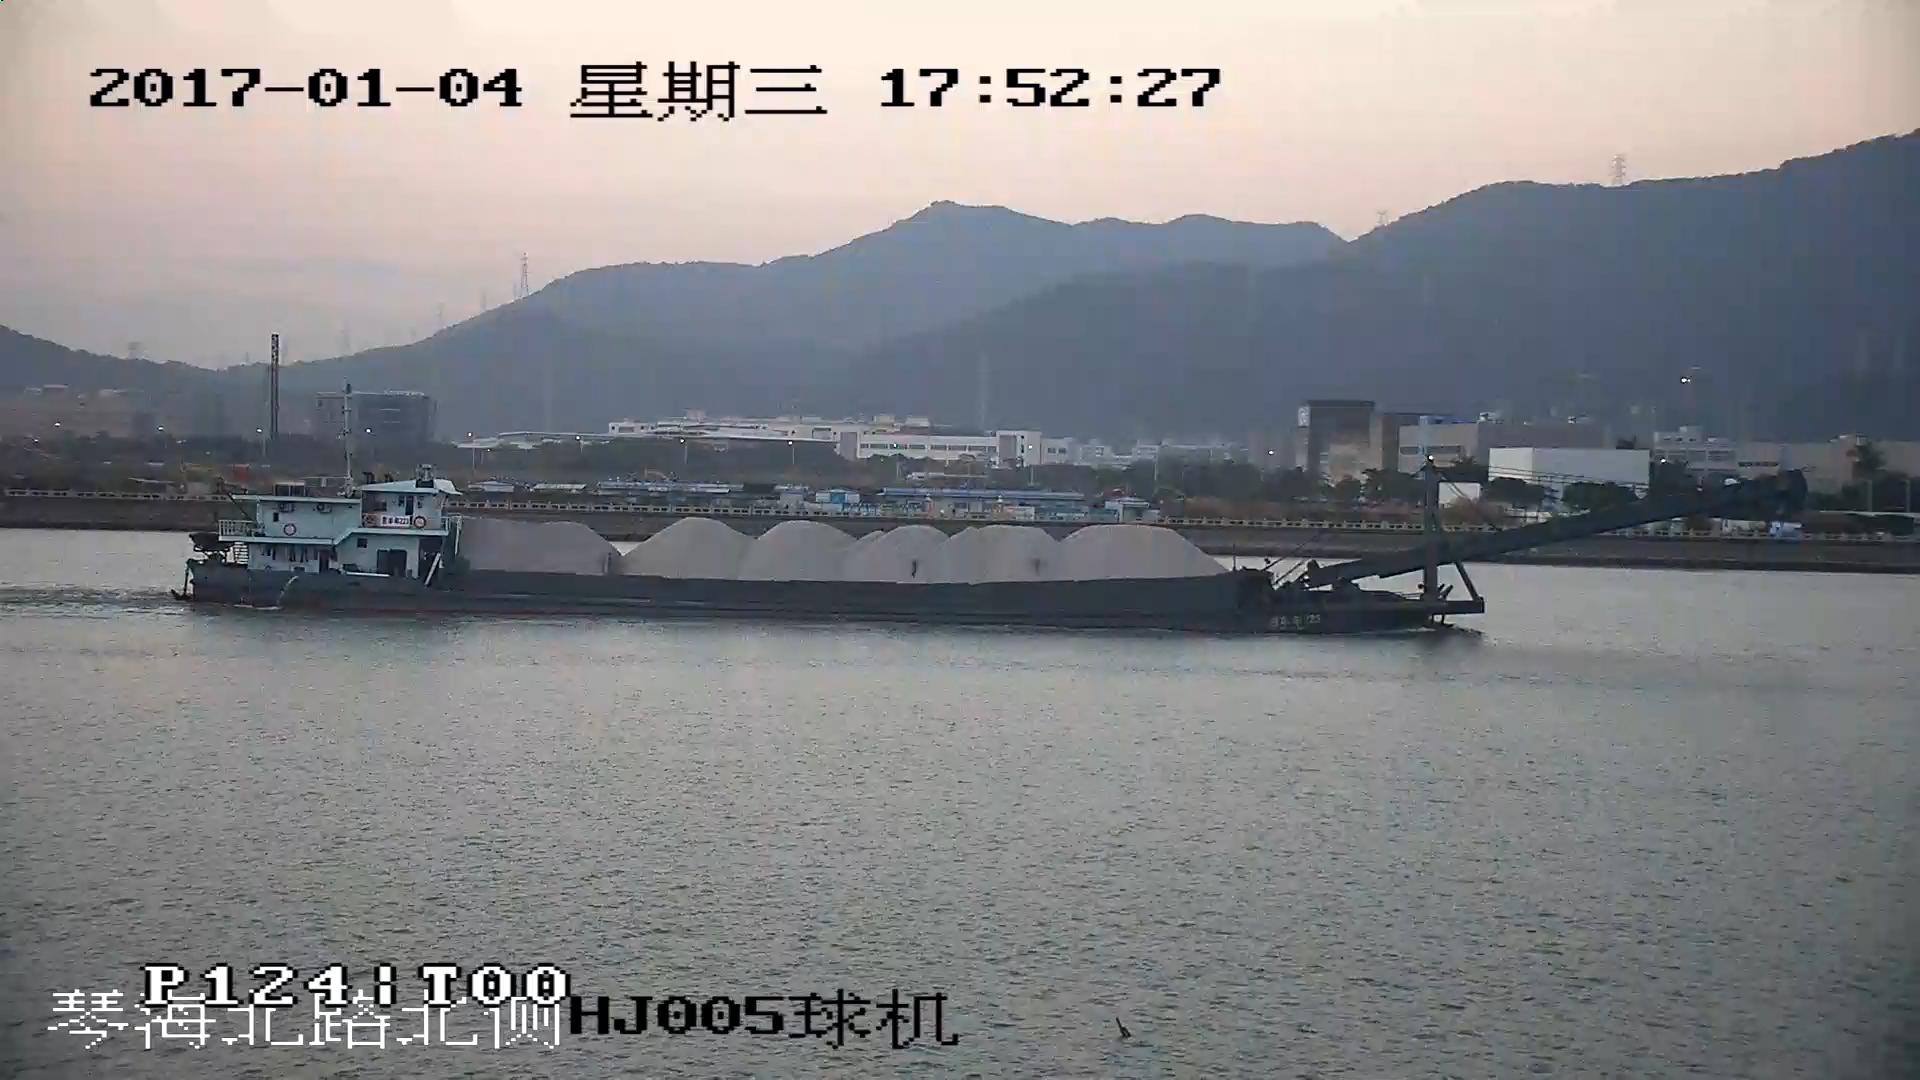ore carrier: (181, 472, 1797, 629)
